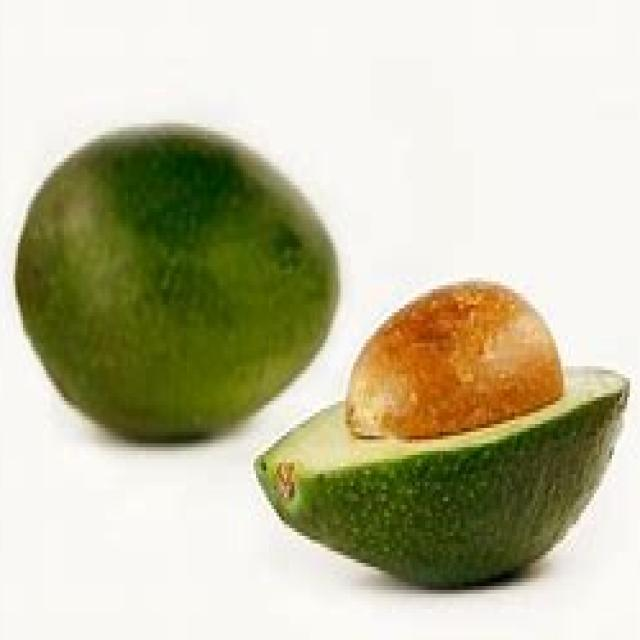avocado: (245, 277, 638, 603), (9, 110, 347, 452)
